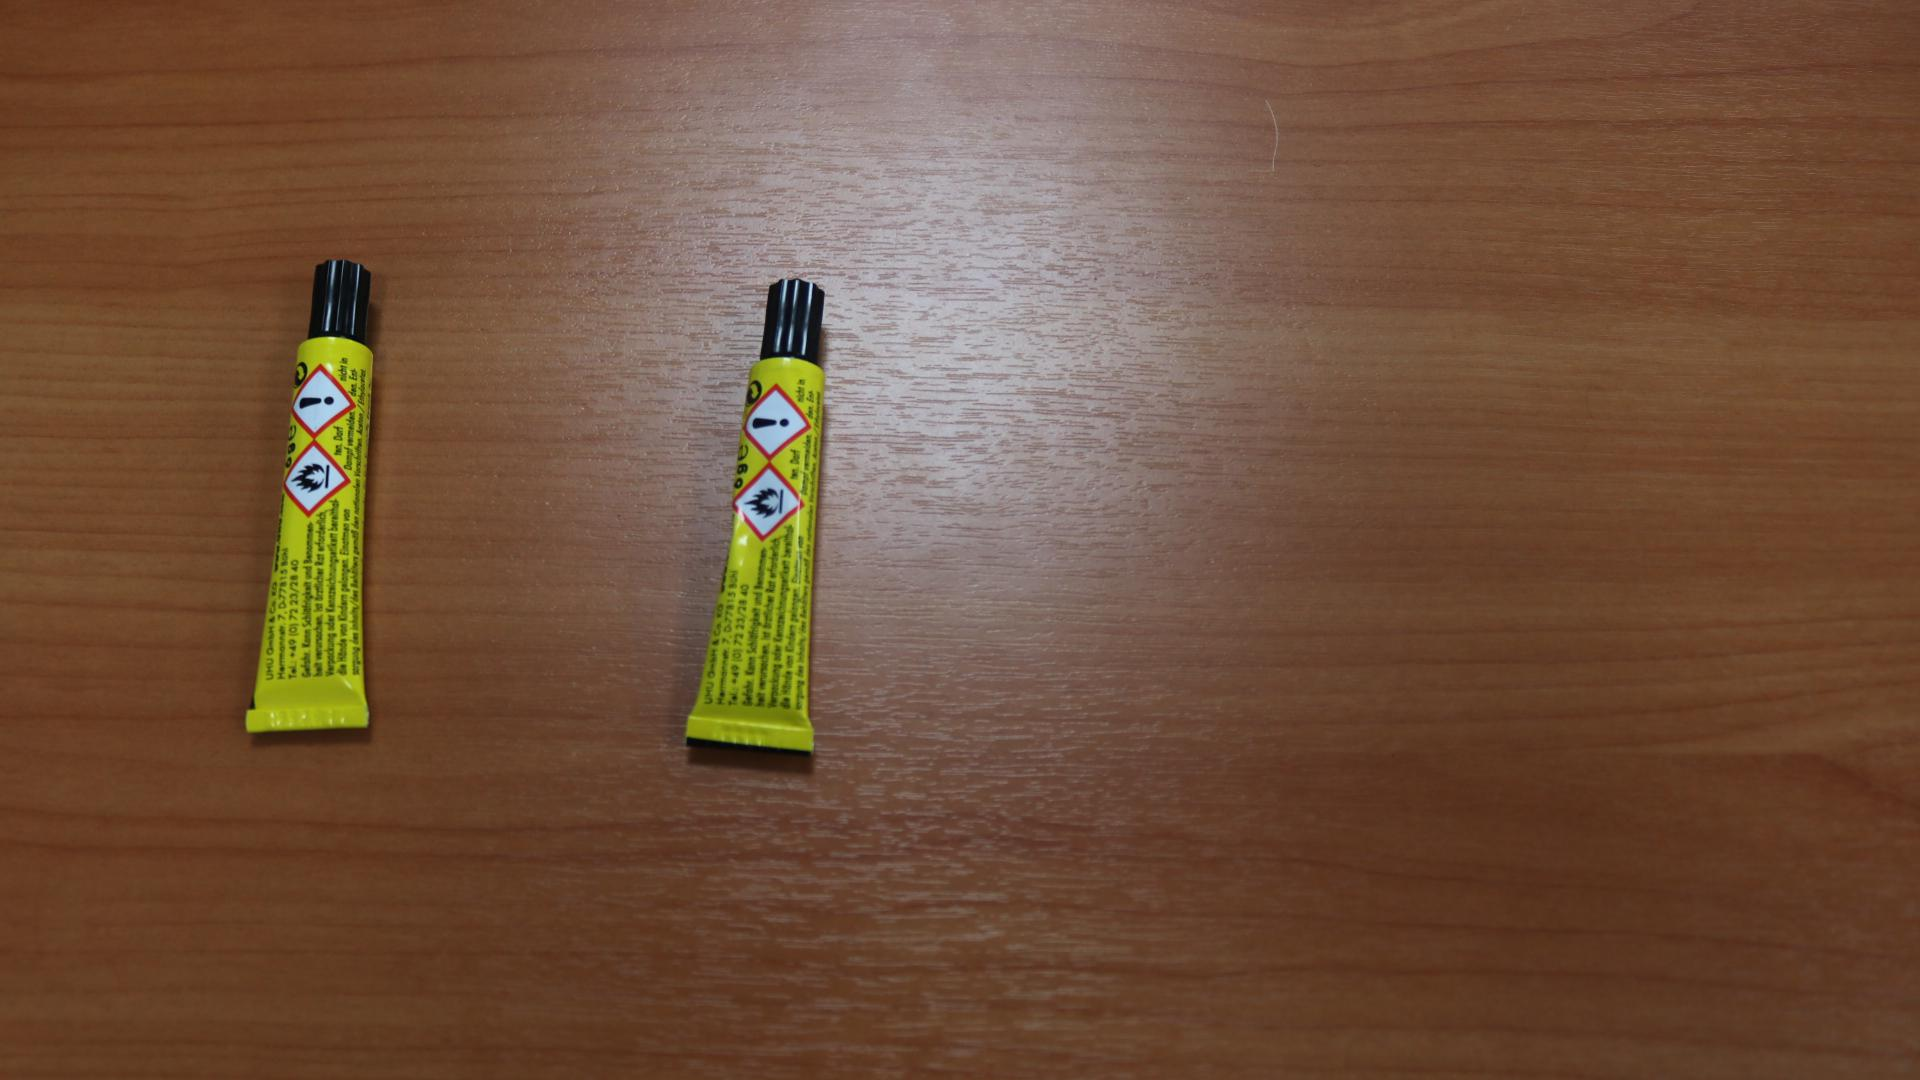Head: (331, 293, 346, 307), (785, 311, 798, 326)
Tail: (740, 727, 758, 744), (299, 712, 314, 726)
Tube: (683, 276, 827, 754), (242, 260, 377, 735)
